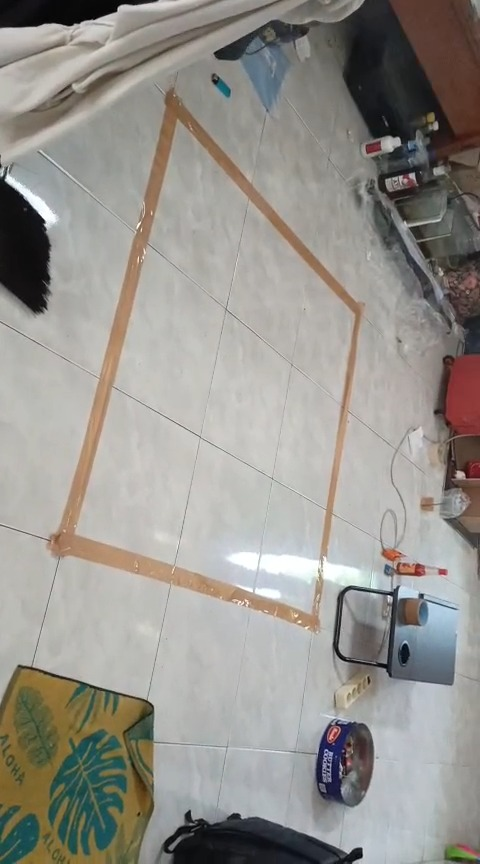floor marking: (48, 89, 363, 628)
